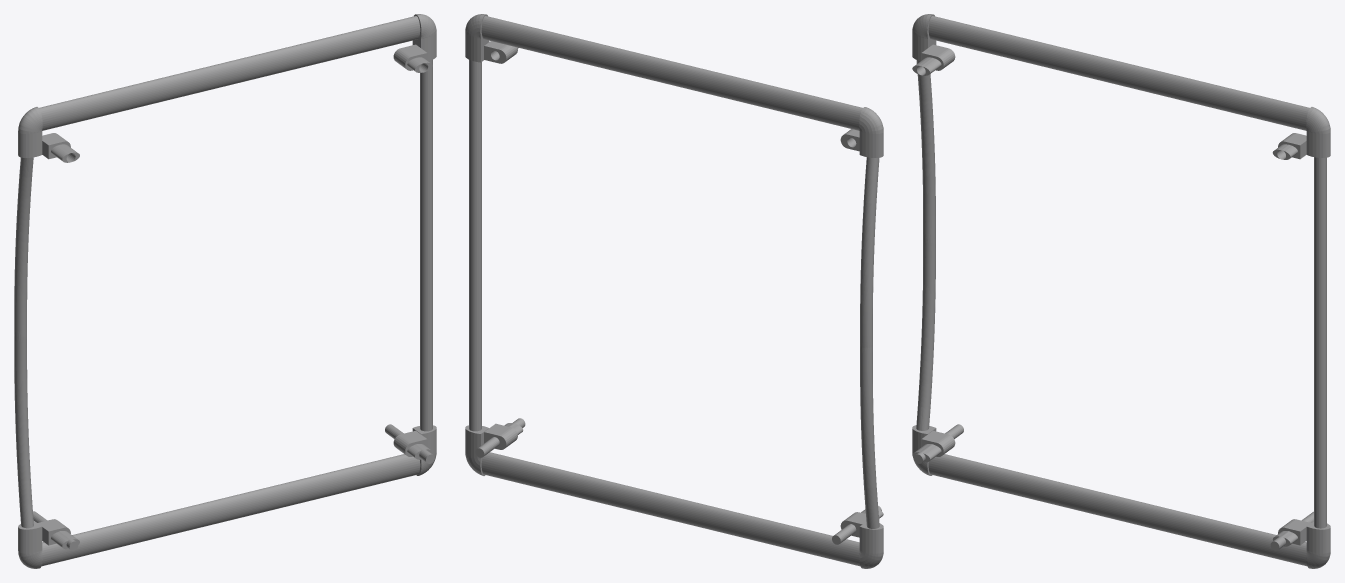
The model's file is scaled_trampoline.dae.
The picture shows the model from 3 angles, left to right: view 1: azimuth 30°, elevation 25°; view 2: azimuth 150°, elevation 25°; view 3: azimuth 330°, elevation 25°; orthographic projection.
Visible parts, largest first — view 1: scaled_trampoline; view 2: scaled_trampoline; view 3: scaled_trampoline.
Boxes of the visible parts, <box> form: scaled_trampoline: <box>14,14,436,568</box>; scaled_trampoline: <box>465,14,883,568</box>; scaled_trampoline: <box>912,14,1330,568</box>.
Bounding box in the file's own units: 2.38 × 0.4064 × 2.51.
1 material, 1 textured.
